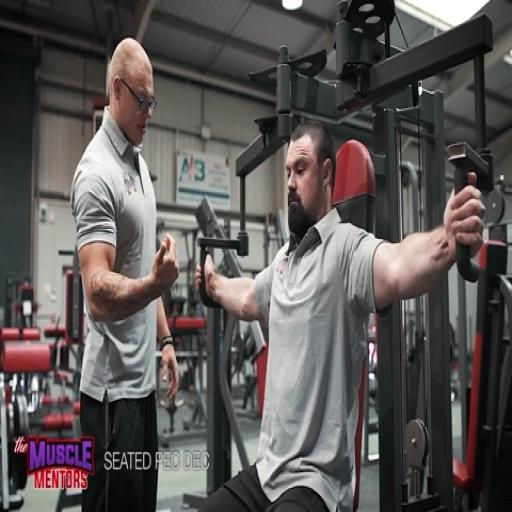exercise: (193, 118, 488, 511), (68, 36, 182, 510)
